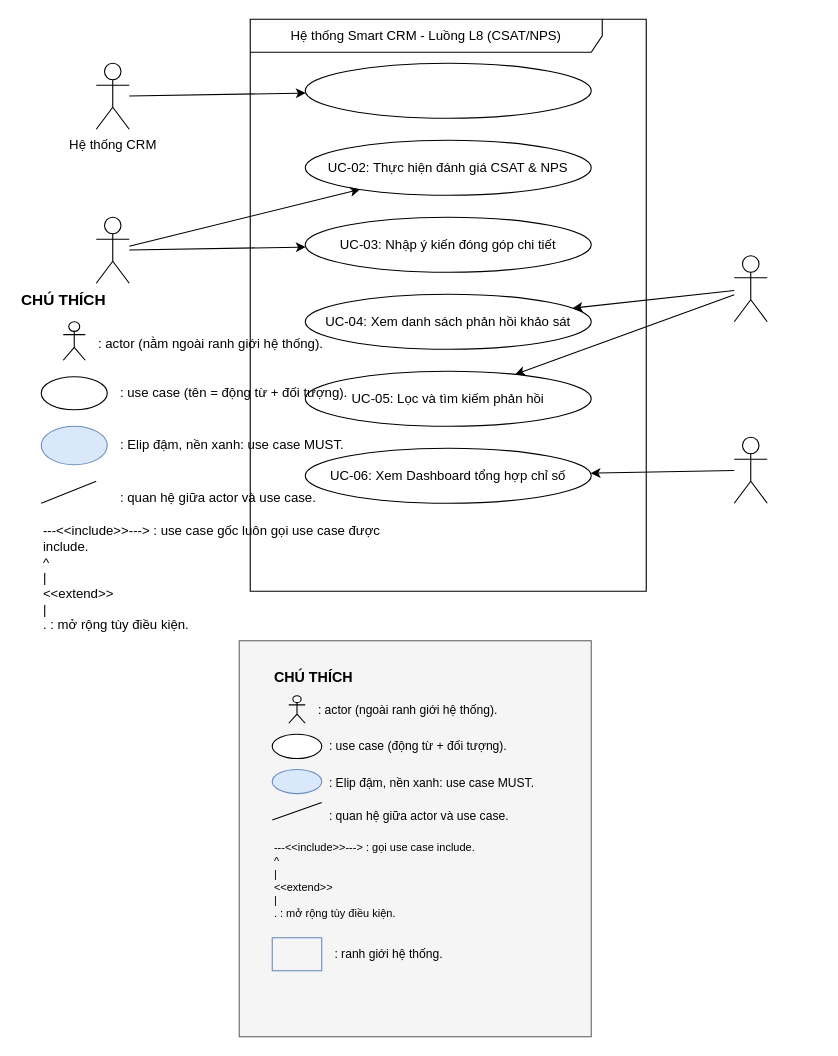
Some shapes in this 838 by 1056 pixel diagram are drawn without their labels. The shapes that lost their labels are listed below. From the top down, each one's centre as x and y in pixels, then its label:
the point at 447,90: UC-01: Tự động kích hoạt & gửi form
the point at 112,249: Khách hàng
the point at 750,288: Nhân viên CSKH
the point at 750,469: Quản lý / Ban giám đốc
